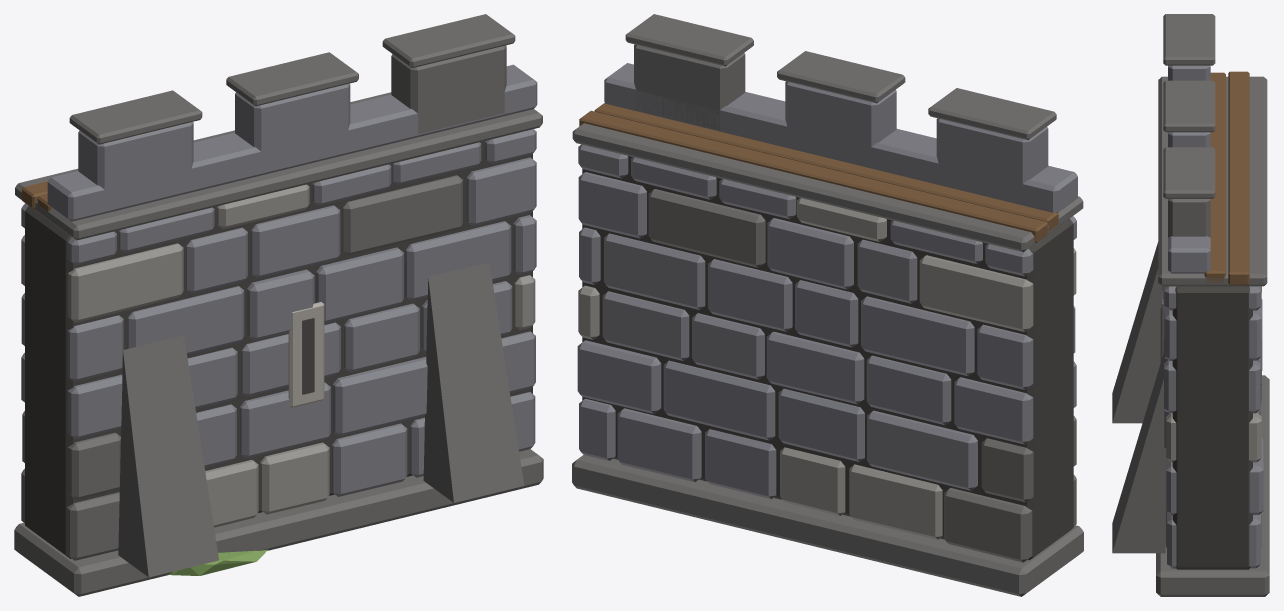
File: wall_3.glb
3 renders of one model, left to right at view 1: azimuth 30°, elevation 25°; view 2: azimuth 150°, elevation 25°; view 3: azimuth 270°, elevation 25°, orthographic. The views are drawn at different scales.
Visible parts, largest first — view 1: Wall; view 2: Wall; view 3: Wall.
Boxes of the visible parts, x1,y1,x2,y2 form: Wall: (14,14,543,596); Wall: (572,14,1083,596); Wall: (1112,14,1269,596).
Size of the model in its own units: 4.04 by 3.7 by 1.33.
